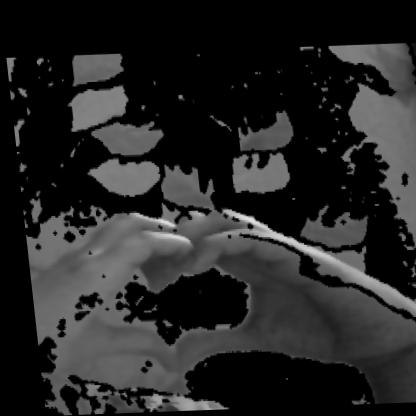heart: (26, 197, 357, 396)
